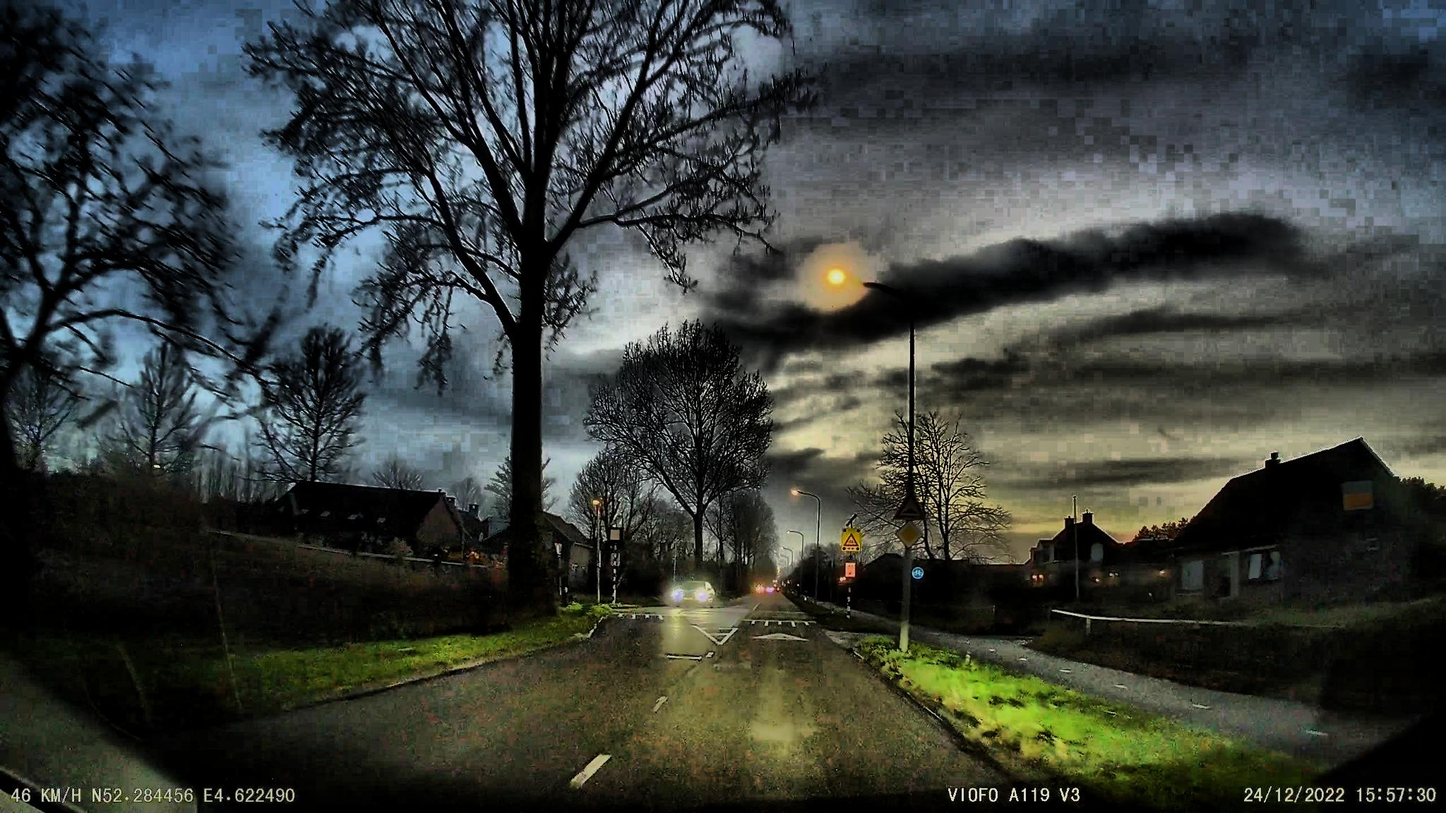Roads: (156, 605, 1035, 813)
